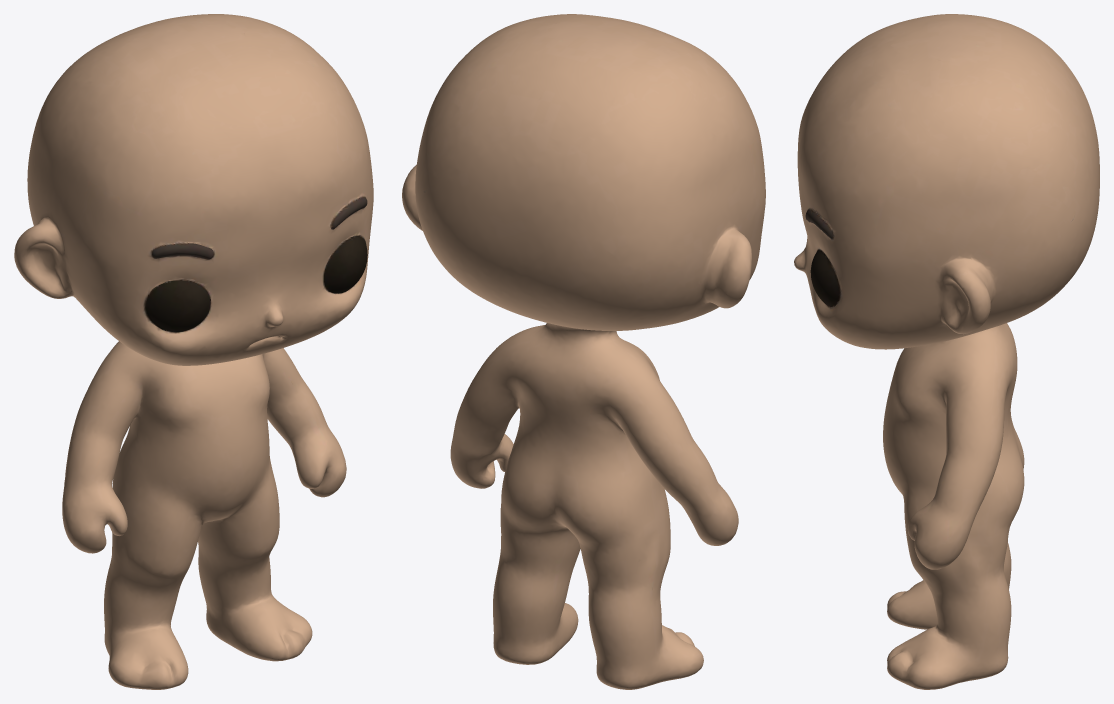
The model's file is figure.glb.
3 renders of one model, left to right at view 1: azimuth 30°, elevation 25°; view 2: azimuth 150°, elevation 25°; view 3: azimuth 270°, elevation 25°, orthographic. The views are drawn at different scales.
Parts seen in each view (by area): view 1: geometry_0; view 2: geometry_0; view 3: geometry_0.
Boxes of the visible parts, box(x1,y1,x2,y2) form: geometry_0: box(14, 14, 373, 689); geometry_0: box(402, 14, 765, 689); geometry_0: box(794, 14, 1099, 689).
Size of the model in its own units: 0.5759 by 1 by 0.4543.
1 material, 1 textured.
